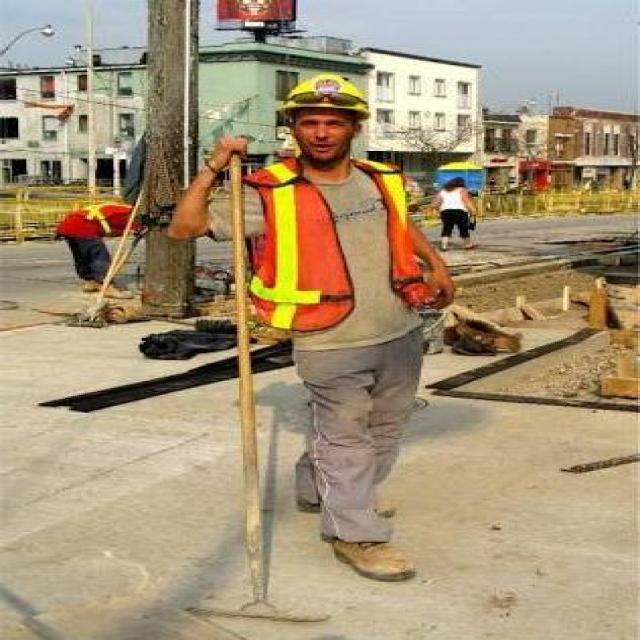Reflective-Jacket: (235, 157, 425, 338)
Safety-Helmet: (267, 66, 385, 120)
